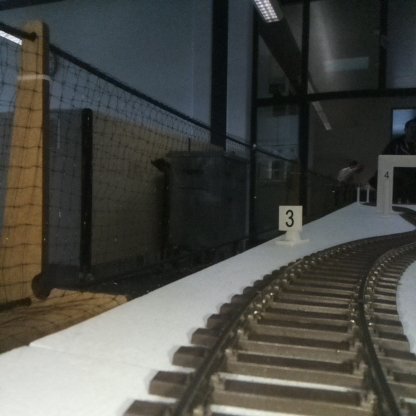white-info-4: (381, 167, 392, 217)
white-stop-3: (279, 206, 301, 243)
